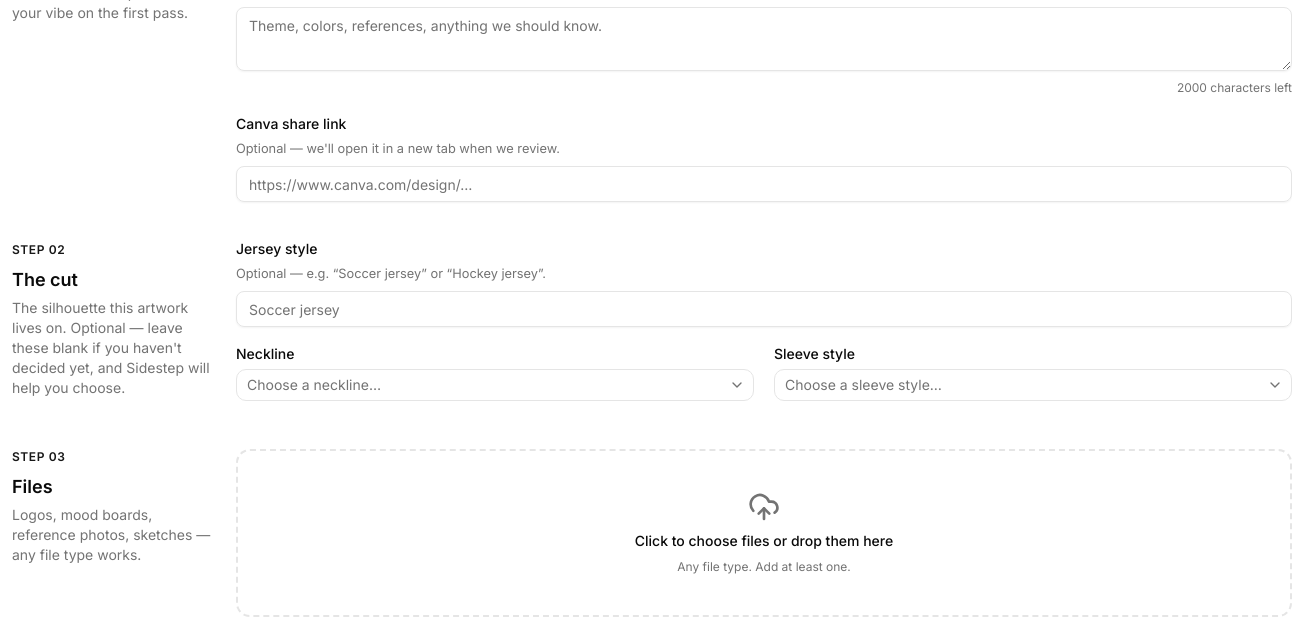
Test: DesignForm › flags an invalid canva link
Type "canva.com/x" into the field labelled "Canva share link" at (764, 184), box [236,166,1292,202]
(page scrolled)
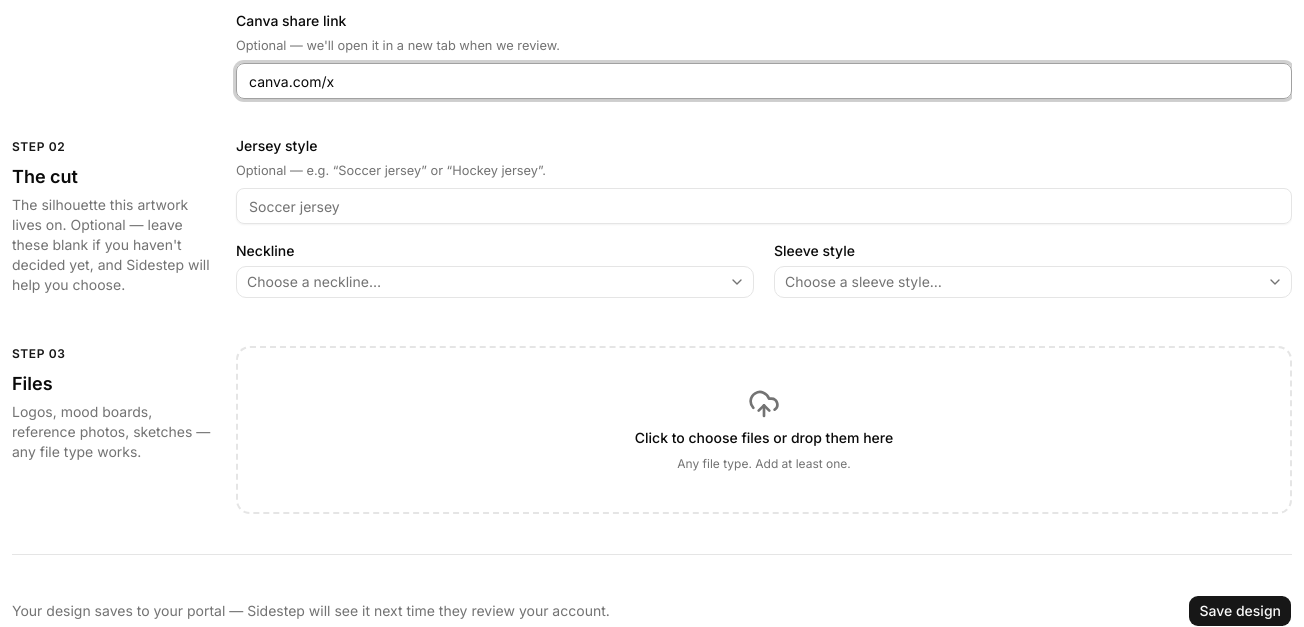
Click the button "Save design" at (1240, 611), box [1188,595,1292,626]
(page scrolled)
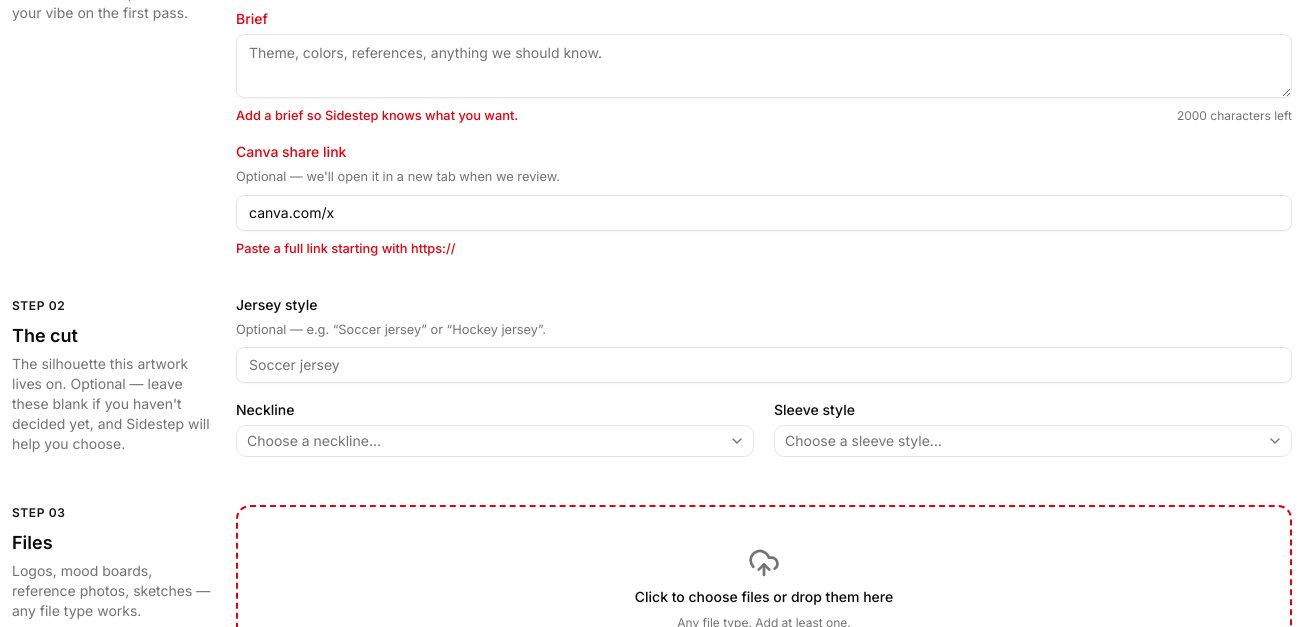
Now the text "Paste a full link starting with https://" is shown, box [236,241,456,256]
